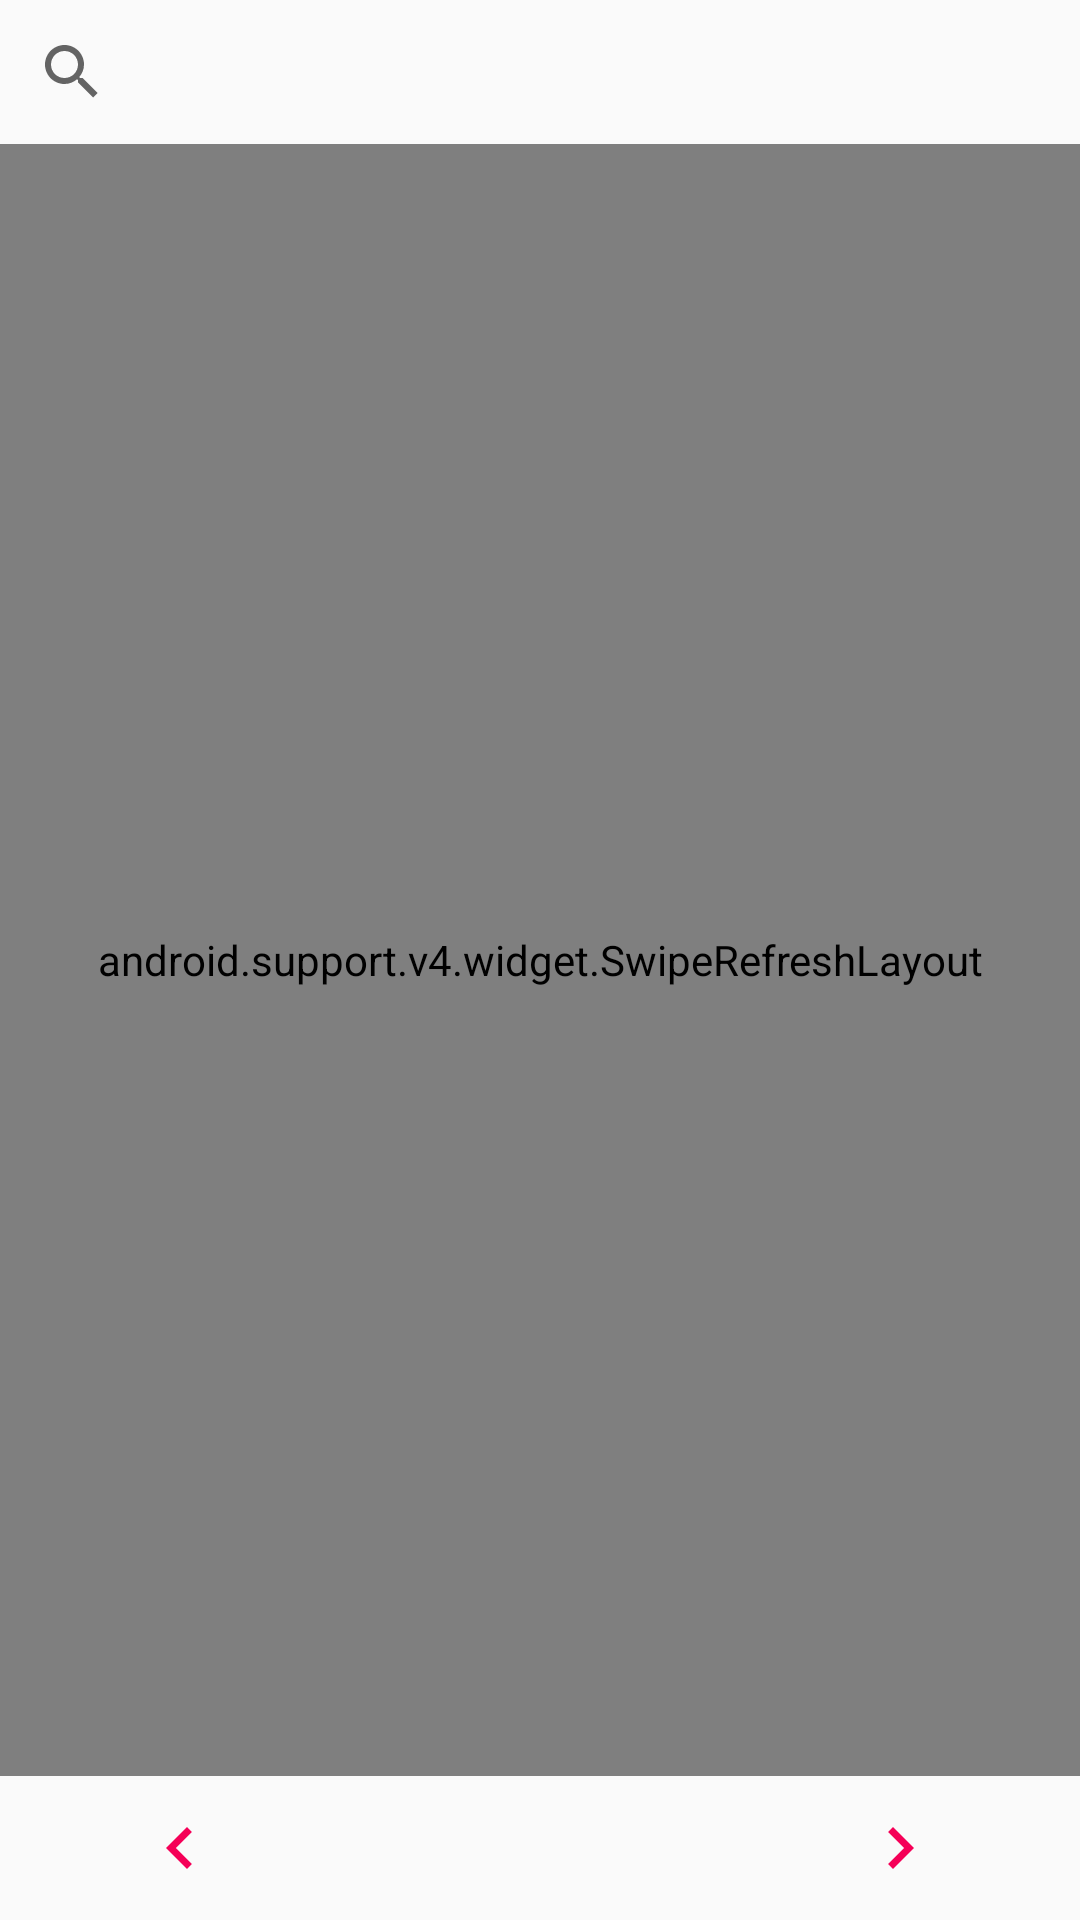

Screen size 1080×1920. Icon name, then its box in pixels as (x1, y1, x2, y2):
ma next page: (888, 1827, 914, 1869)
ma prev page: (166, 1827, 192, 1869)
